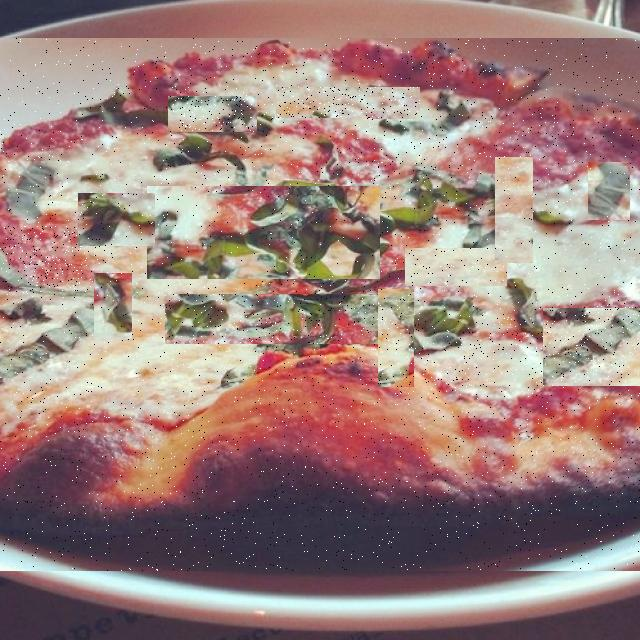Basil: (147, 186, 380, 279), (165, 294, 388, 344), (372, 112, 542, 170), (543, 308, 640, 386), (78, 193, 155, 246), (378, 289, 414, 387), (168, 96, 257, 132), (94, 273, 132, 339), (588, 162, 630, 220), (601, 296, 638, 324)
Cheese: (412, 318, 550, 400), (1, 226, 106, 292), (276, 88, 420, 120), (495, 157, 533, 263), (405, 248, 507, 286)
Pizza: (0, 38, 640, 571)
